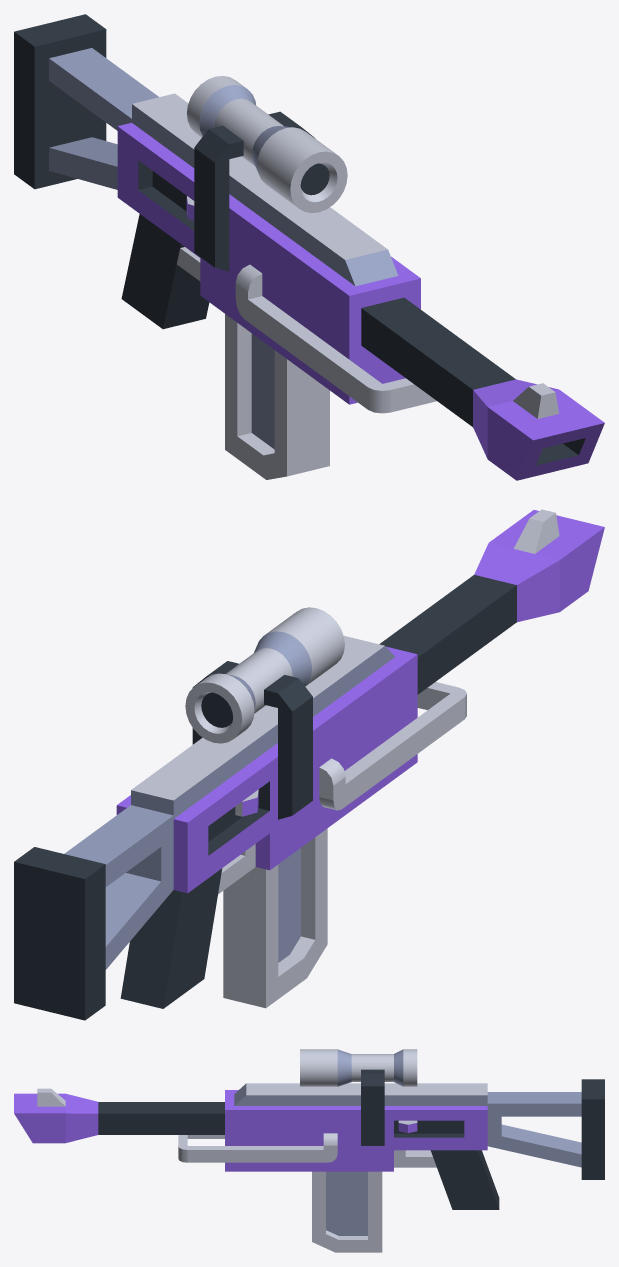
Rendered from blasterF.glb.
The picture shows the model from 3 angles, top to bottom: view 1: azimuth 30°, elevation 25°; view 2: azimuth 150°, elevation 25°; view 3: azimuth 270°, elevation 25°; orthographic projection. The views are drawn at different scales.
Parts seen in each view (by area): view 1: blasterF; view 2: blasterF; view 3: blasterF.
Part boxes in pixels (x1,y1,x2,y2): blasterF: (14,14,604,480); blasterF: (14,509,604,1020); blasterF: (14,1049,604,1252).
Bounding box in the file's own units: 0.14 × 0.46 × 1.26.
